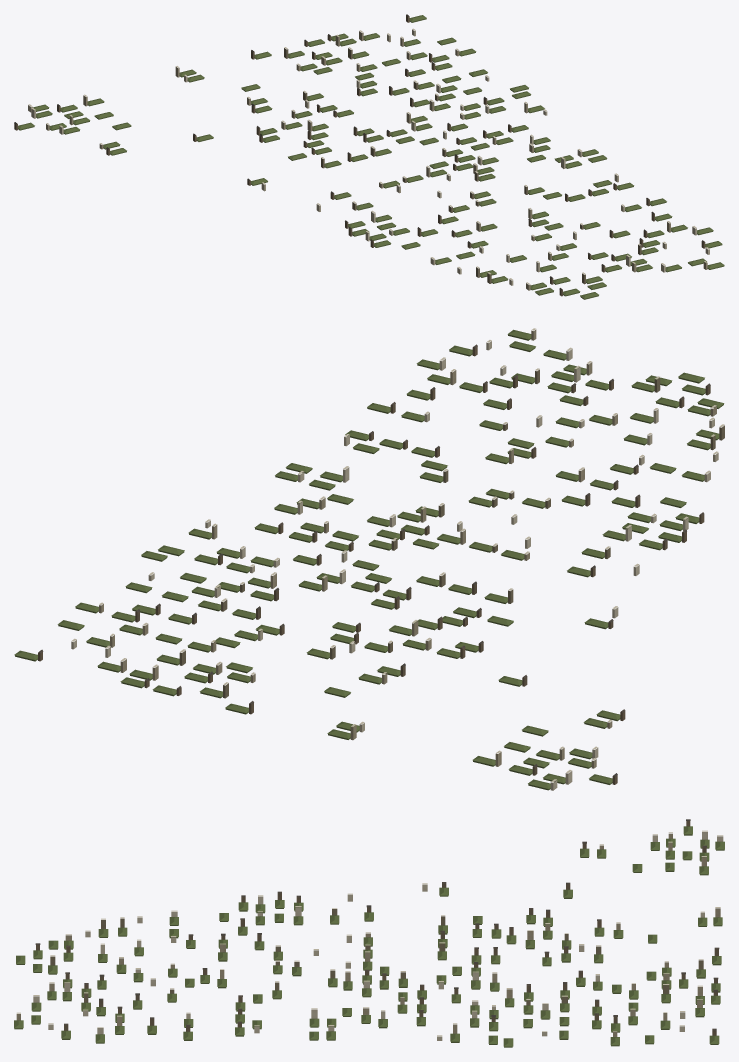
File: old_city_cemetery_1871__graves_1860_1871.glb
The picture shows the model from 3 angles, top to bottom: view 1: azimuth 30°, elevation 25°; view 2: azimuth 150°, elevation 25°; view 3: azimuth 270°, elevation 25°; orthographic projection. The views are drawn at different scales.
Visible parts, largest first — view 1: old_city_cemetery_1871__graves_1860_1871; view 2: old_city_cemetery_1871__graves_1860_1871; view 3: old_city_cemetery_1871__graves_1860_1871.
Boxes of the visible parts, <box> form: old_city_cemetery_1871__graves_1860_1871: <box>14,14,724,299</box>; old_city_cemetery_1871__graves_1860_1871: <box>14,328,724,790</box>; old_city_cemetery_1871__graves_1860_1871: <box>14,819,724,1047</box>.
Bounding box in the file's own units: 54.95 × 1.19 × 74.56.
Materials: 7 (6 with a texture image).
